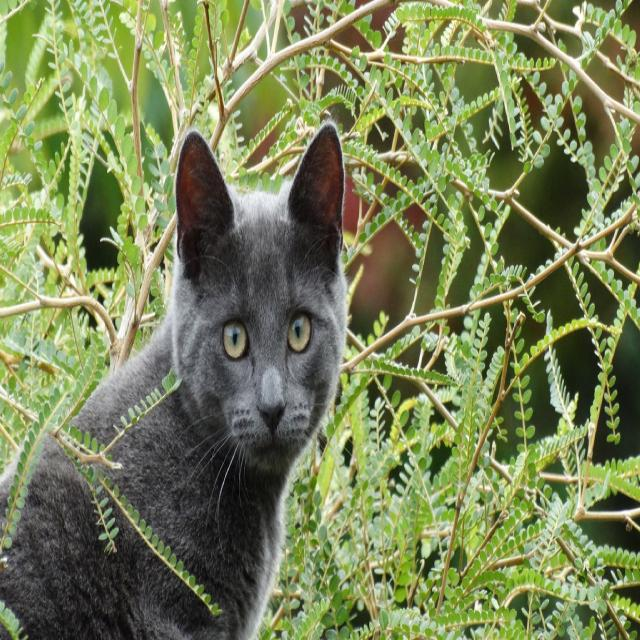Cat: (6, 122, 353, 639)
